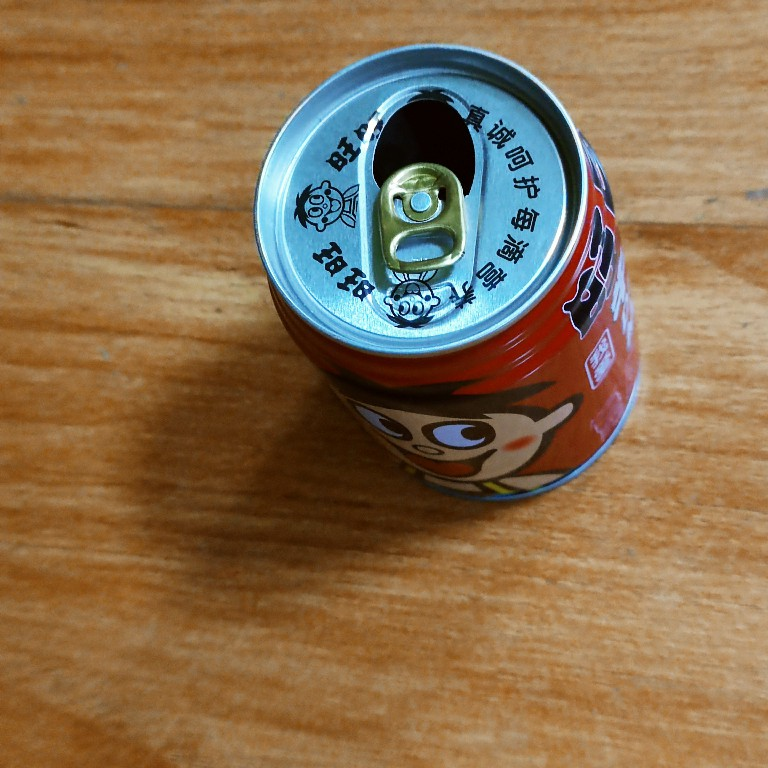can: (249, 39, 645, 505)
